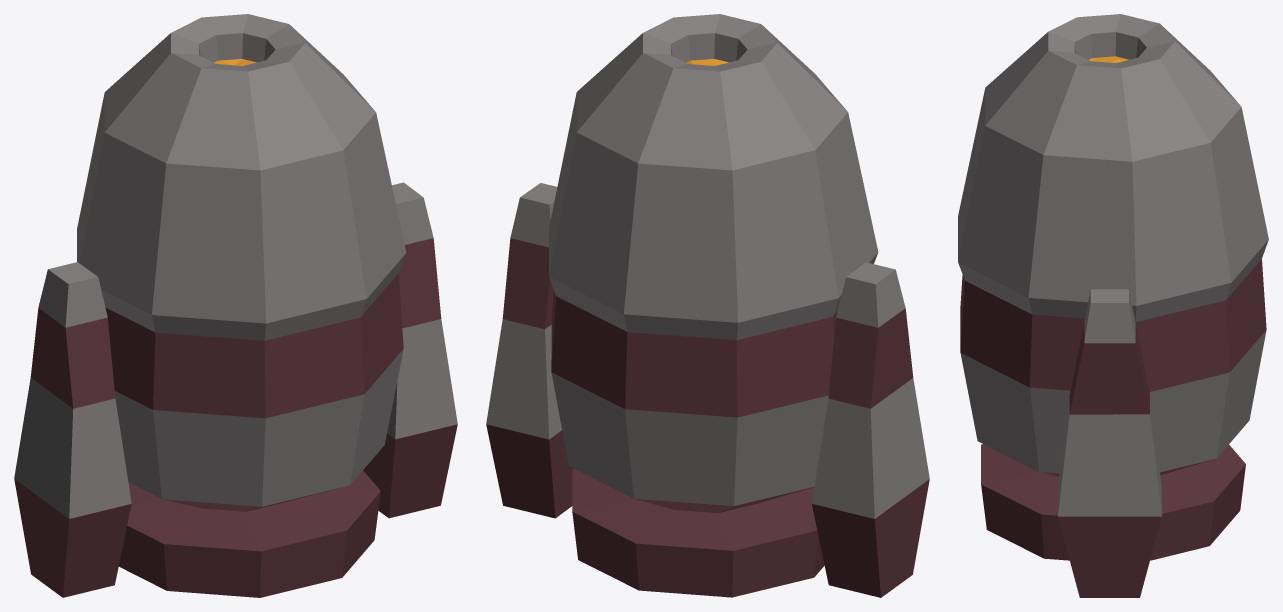
File: scifi-smelter.fbx
3 renders of one model, left to right at view 1: azimuth 30°, elevation 25°; view 2: azimuth 150°, elevation 25°; view 3: azimuth 270°, elevation 25°, orthographic. The views are drawn at different scales.
Parts seen in each view (by area): view 1: scifi-smelter; view 2: scifi-smelter; view 3: scifi-smelter.
Boxes of the visible parts, box(x1,y1,x2,y2) form: scifi-smelter: box(14, 14, 457, 597); scifi-smelter: box(486, 14, 929, 597); scifi-smelter: box(958, 14, 1268, 597).
Size of the model in its own units: 1.64 by 2 by 1.2.
